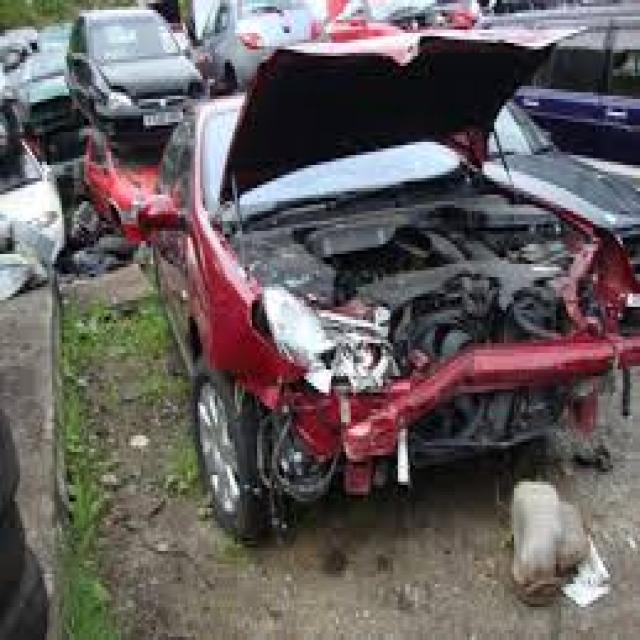severe: (196, 160, 634, 486)
